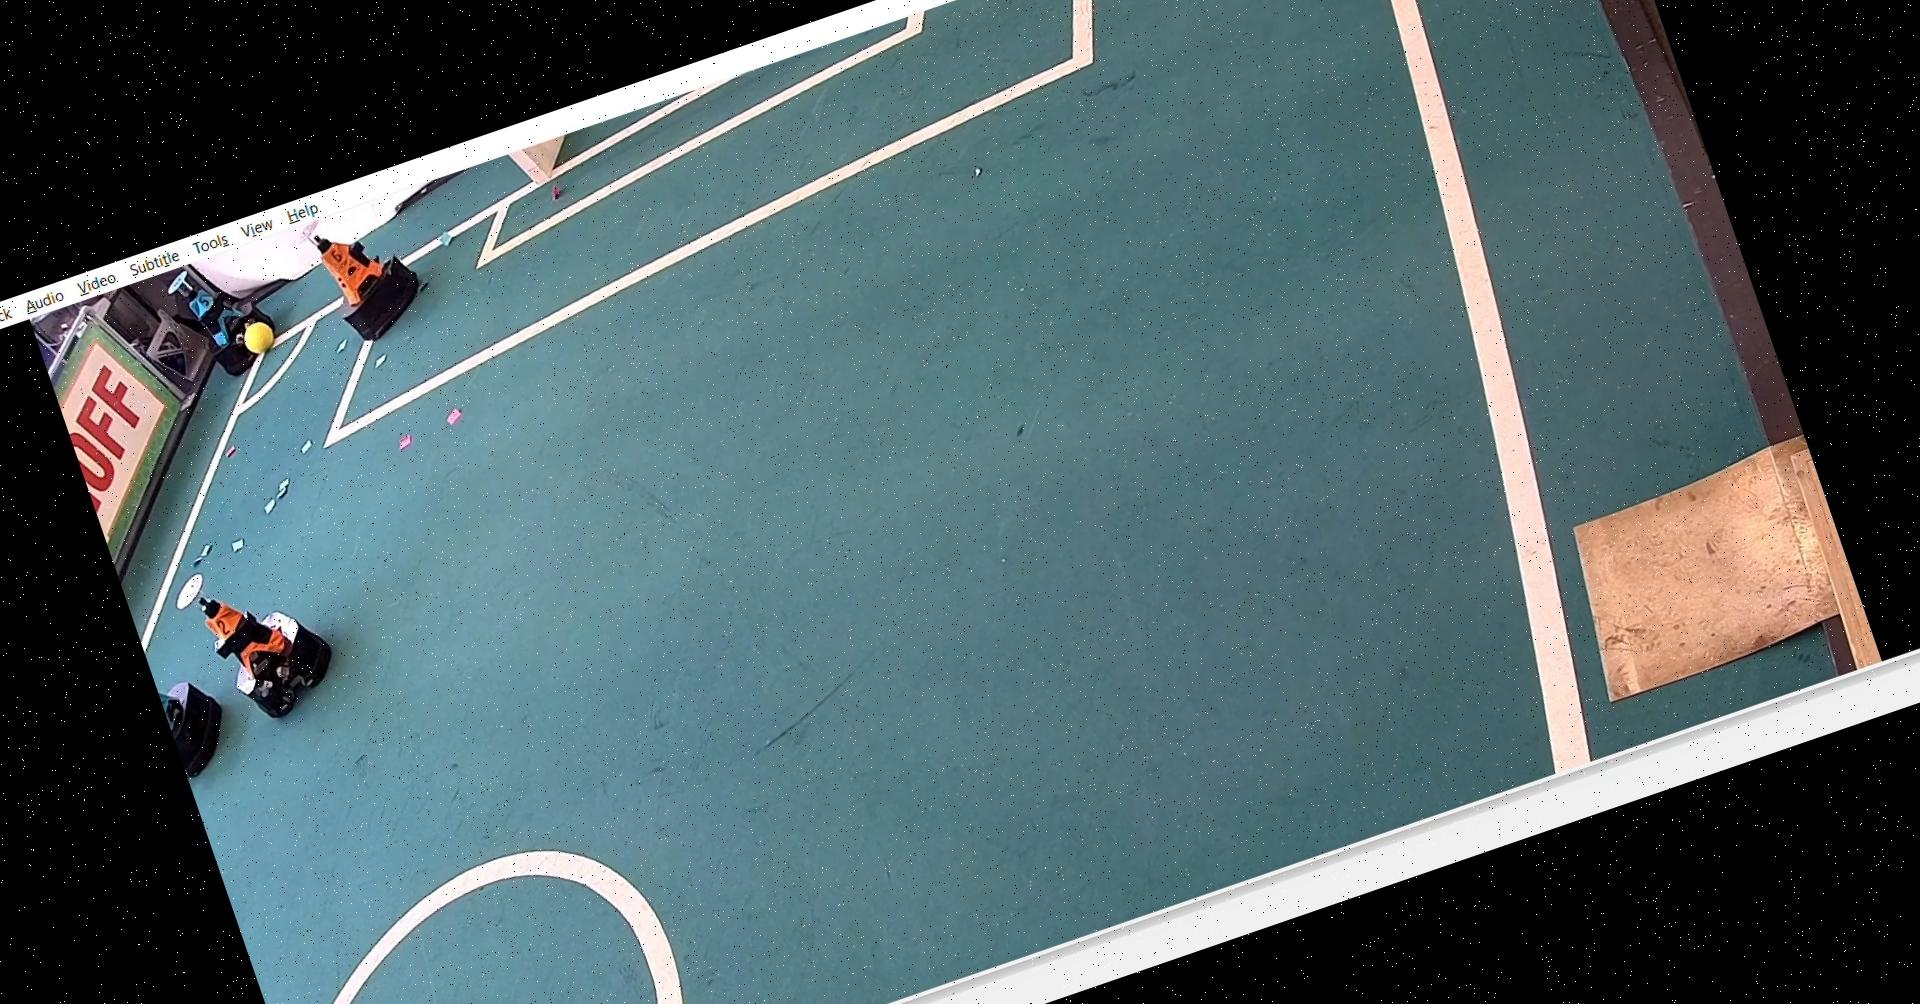Ball: (234, 311, 281, 358)
Team_Blue: (163, 244, 298, 388)
Team_Red: (160, 528, 348, 736), (301, 194, 446, 355)
